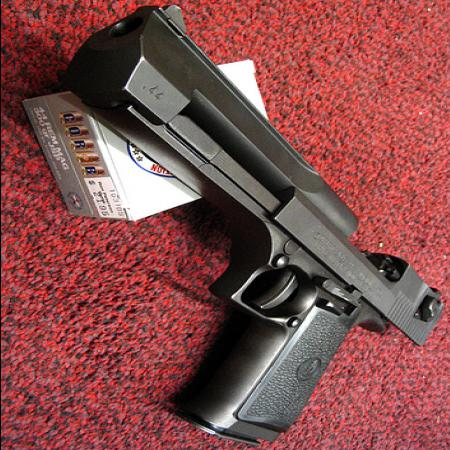Pistol: (66, 9, 444, 446)
